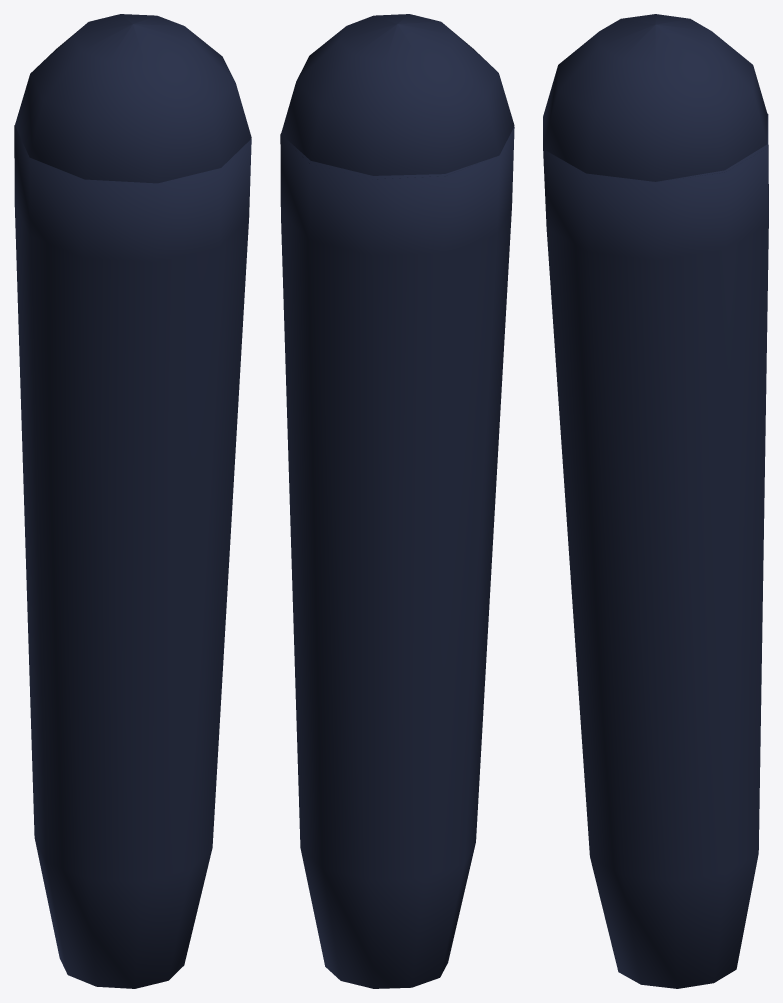
File: shin_L.obj
3 views of the same model, side by side, from view 1: azimuth 30°, elevation 25°; view 2: azimuth 150°, elevation 25°; view 3: azimuth 270°, elevation 25° (orthographic).
Visible parts, largest first — view 1: shin_L; view 2: shin_L; view 3: shin_L.
Boxes of the visible parts, x1,y1,x2,y2 form: shin_L: (14, 14, 251, 988); shin_L: (280, 14, 514, 988); shin_L: (543, 14, 768, 988).
Size of the model in its own units: 0.1094 by 0.4866 by 0.1044.
